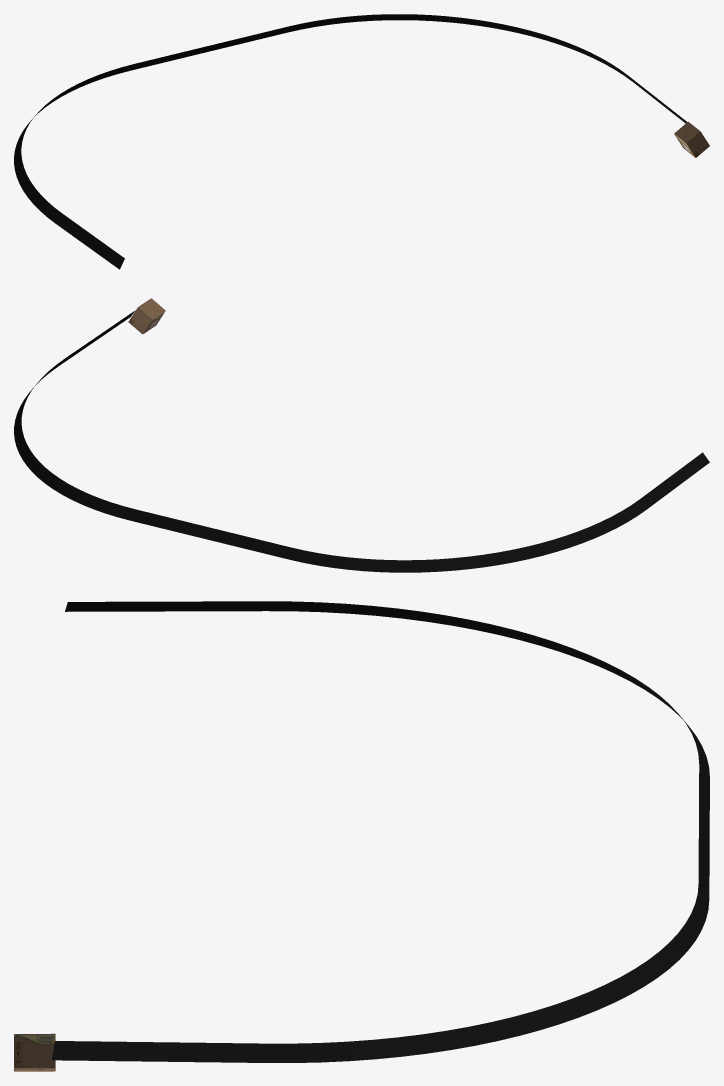
The model's file is 1Verh.FBX.
The picture shows the model from 3 angles, top to bottom: view 1: azimuth 30°, elevation 25°; view 2: azimuth 150°, elevation 25°; view 3: azimuth 270°, elevation 25°; orthographic projection. The views are drawn at different scales.
Visible parts, largest first — view 1: Line036, 290x170x190_028; view 2: Line036, 290x170x190_028; view 3: Line036, 290x170x190_028.
Part boxes in pixels (x1,y1,x2,y2): Line036: (14, 14, 686, 269); 290x170x190_028: (674, 121, 709, 157); Line036: (14, 310, 709, 572); 290x170x190_028: (128, 298, 165, 334); Line036: (52, 601, 709, 1062); 290x170x190_028: (14, 1033, 55, 1071).
Bounding box in the file's own units: 9504 × 409 × 6186.
2 materials, 1 textured.
